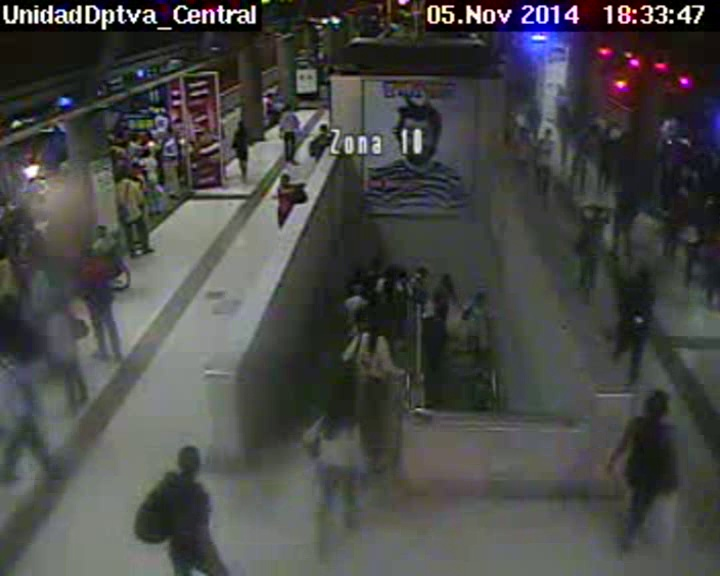person: (176, 445, 203, 474), (646, 388, 671, 416), (11, 231, 35, 255), (326, 398, 349, 423), (632, 261, 652, 284), (45, 289, 65, 309), (14, 345, 32, 366), (586, 205, 603, 224), (367, 317, 383, 335), (608, 123, 625, 139), (68, 248, 84, 264), (472, 291, 487, 308), (439, 270, 451, 286), (130, 160, 143, 174), (617, 179, 631, 192), (115, 166, 128, 179), (140, 128, 153, 141), (95, 225, 107, 238), (580, 123, 592, 136), (520, 126, 532, 139), (384, 266, 395, 280), (279, 173, 291, 185), (418, 265, 429, 278), (353, 283, 364, 296), (368, 261, 381, 272), (672, 178, 684, 189), (163, 126, 174, 137), (402, 272, 412, 284), (319, 123, 330, 133), (130, 134, 141, 144), (543, 127, 553, 138), (558, 104, 568, 114), (284, 104, 293, 114), (527, 100, 537, 109), (266, 92, 275, 101), (143, 149, 151, 158), (236, 121, 243, 128)
